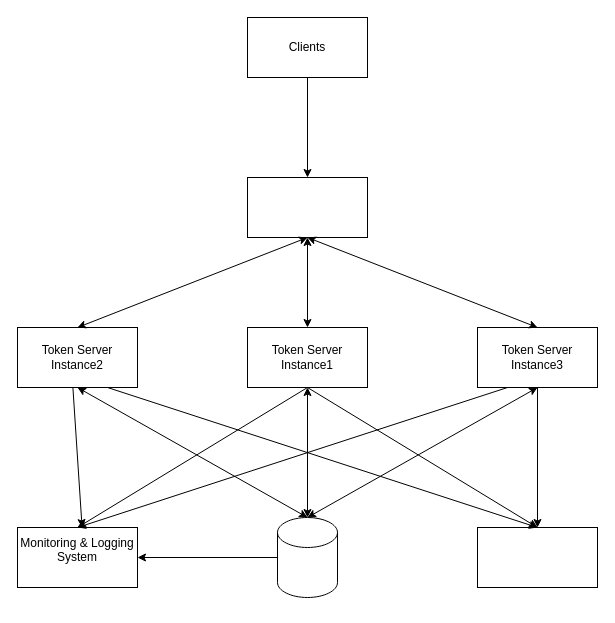
The diagram is 615 pixels wide and 623 high, and some of its shapes have lost their labels. Each missing label, with the centre of its shape:
"Load Balancer" belongs at point (307, 207).
"Message Broker" belongs at point (537, 557).
"Redis Cluster" belongs at point (307, 557).
